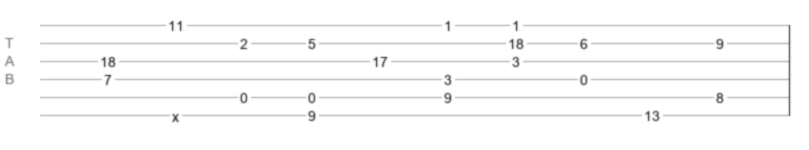0: (240, 90, 248, 100), (308, 90, 316, 100), (580, 72, 588, 82)
1: (444, 18, 452, 28), (512, 18, 520, 28)
11: (168, 18, 184, 28)
13: (644, 108, 660, 118)
17: (372, 54, 388, 64)
18: (100, 54, 116, 64), (508, 36, 524, 46)
2: (240, 36, 248, 46)
3: (444, 72, 452, 82), (512, 54, 520, 64)
5: (308, 36, 316, 46)
6: (580, 36, 588, 46)
7: (104, 72, 112, 82)
8: (716, 90, 724, 100)
9: (308, 108, 316, 118), (444, 90, 452, 100), (716, 36, 724, 46)
x: (172, 109, 179, 117)
